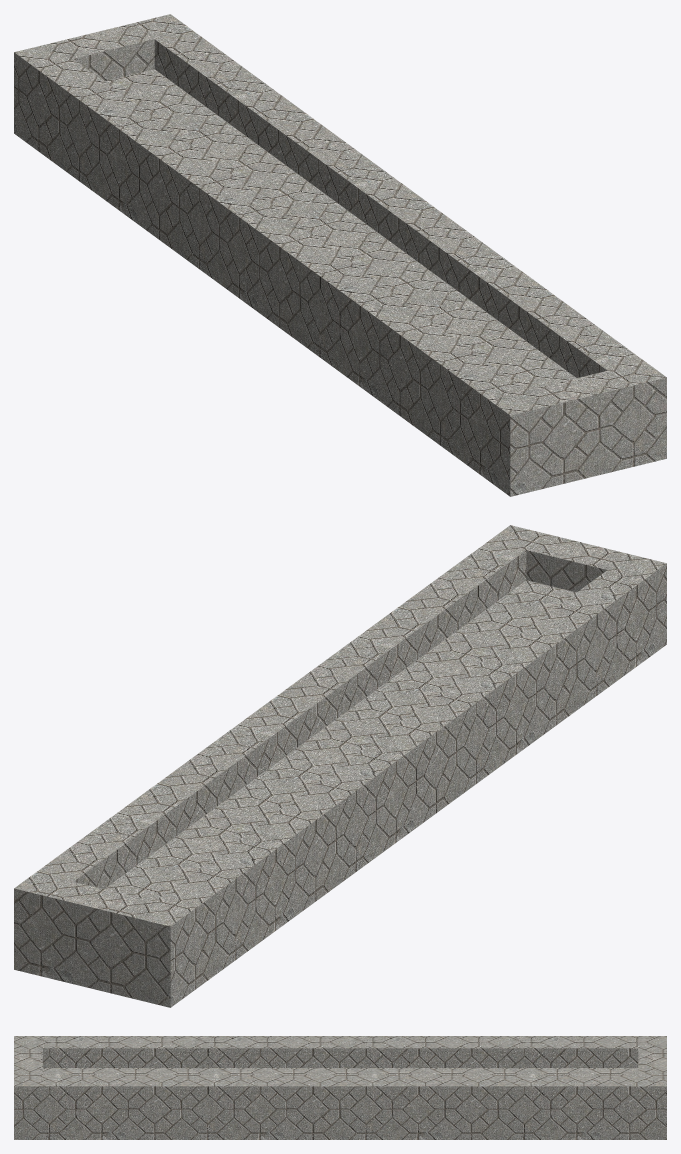
Rendered from Becay.fbx.
3 renders of one model, top to bottom at view 1: azimuth 30°, elevation 25°; view 2: azimuth 150°, elevation 25°; view 3: azimuth 270°, elevation 25°, orthographic. The views are drawn at different scales.
Visible parts, largest first — view 1: Group1; view 2: Group1; view 3: Group1.
Part boxes in pixels (x1,y1,x2,y2): Group1: [14, 14, 666, 496]; Group1: [14, 525, 666, 1007]; Group1: [14, 1036, 666, 1139].
Size of the model in its own units: 3350 by 1662 by 18397.
